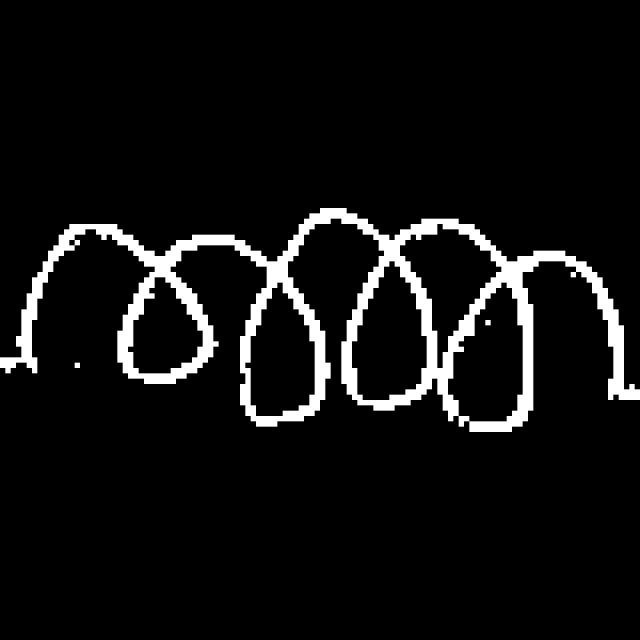inductor: (14, 201, 623, 459)
